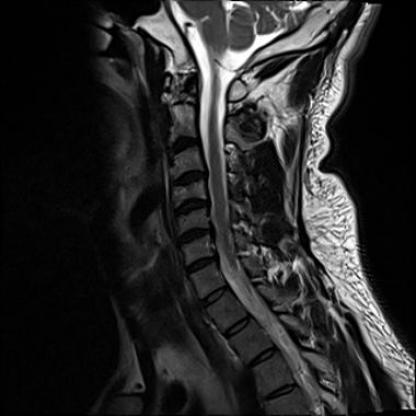Disc Bulgerotation: (171, 196, 211, 217), (169, 169, 207, 189), (177, 227, 214, 245), (170, 135, 201, 155), (185, 257, 218, 273)
Disc Protrusionrotation: (185, 257, 218, 273)
